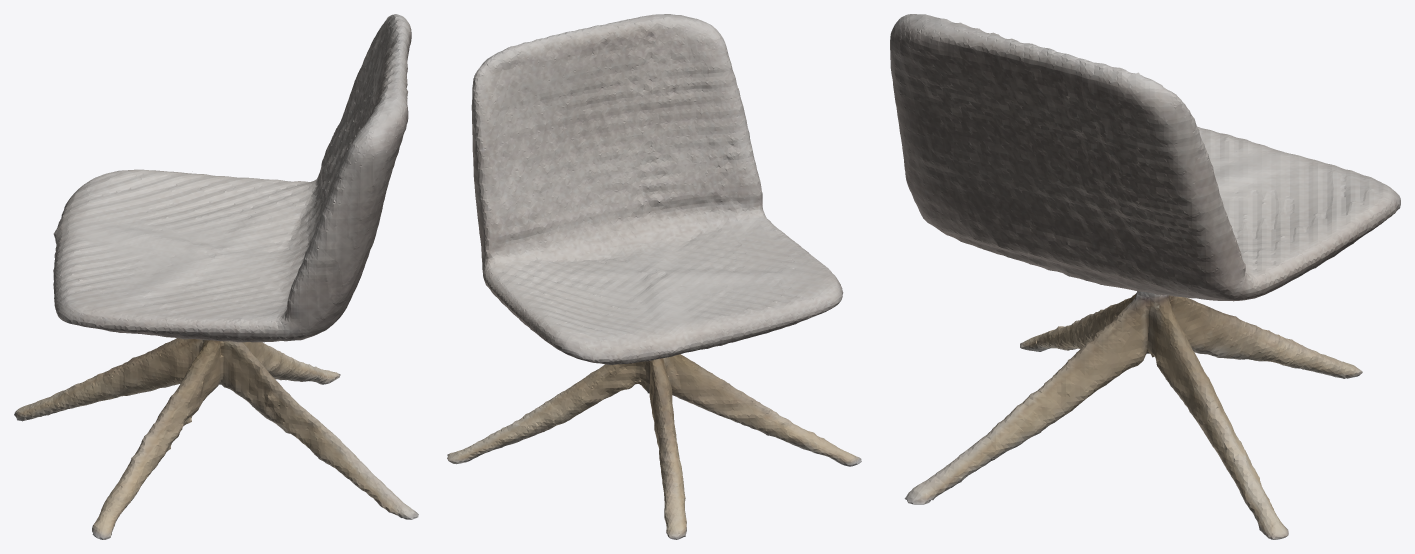
The picture shows the model from 3 angles, left to right: view 1: azimuth 30°, elevation 25°; view 2: azimuth 150°, elevation 25°; view 3: azimuth 270°, elevation 25°; orthographic projection. The views are drawn at different scales.
Parts seen in each view (by area): view 1: world; view 2: world; view 3: world.
Boxes of the visible parts, bbox=[...] form: world: bbox=[14, 14, 418, 539]; world: bbox=[447, 14, 861, 539]; world: bbox=[890, 14, 1400, 539].
Size of the model in its own units: 1.75 by 1.86 by 1.8.
